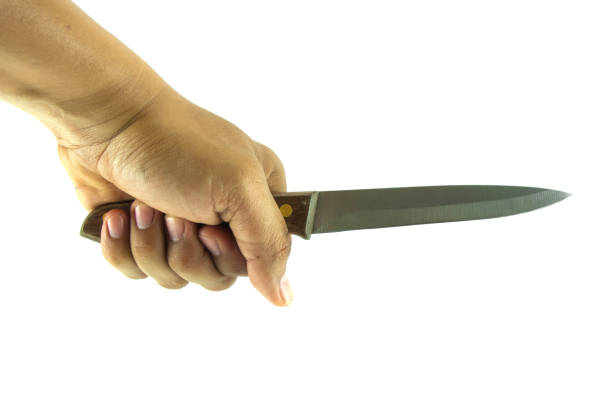knife: (78, 181, 576, 243)
